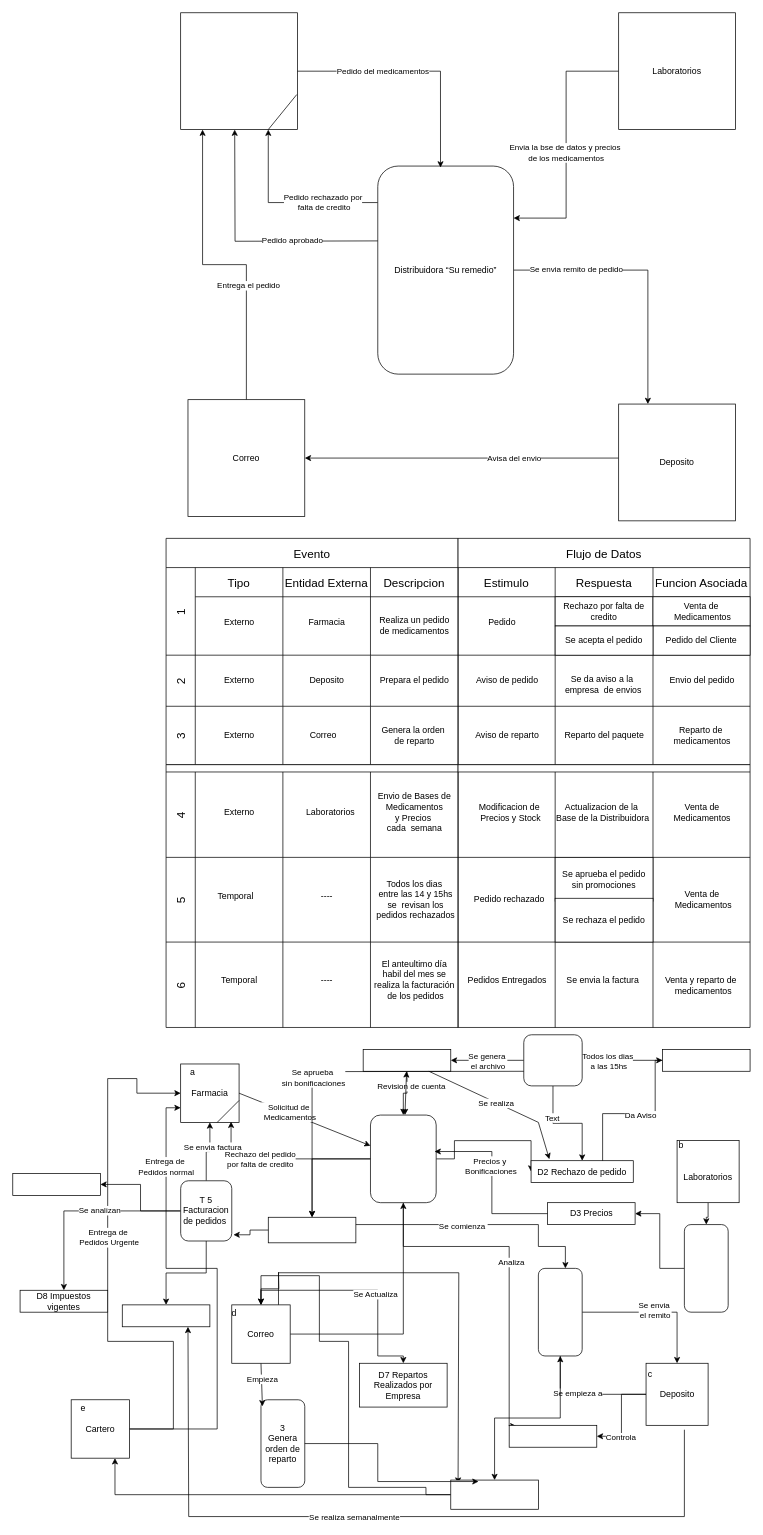
Image size: 763x1535. Some labels were removed from this diagram. The centre of each missing label's shape, as x and y in pixels:
"1 Atender pedido" belongs at [403,1158].
"2 Preparar Pedido" belongs at [560,1312].
"4 Modifica Precios" belongs at [706,1268].
"D1 Cuentas Corrientes" belongs at [406,1060].
"D4 Pedido aprobado" belongs at [312,1230].
"D5 Se da aviso" belongs at [494,1494].
"D5 Stock" belongs at [552,1436].
"D9 Informe de pedidos entregados" belongs at [166,1315].
"D9 Se archiva la factura en tesoreria" belongs at [56,1184].
"Farmacias" belongs at [238,71].
"Jefe de creditos" belongs at [706,1060].
"T4 Se revisan los pedidos rechazados" belongs at [552,1060].
